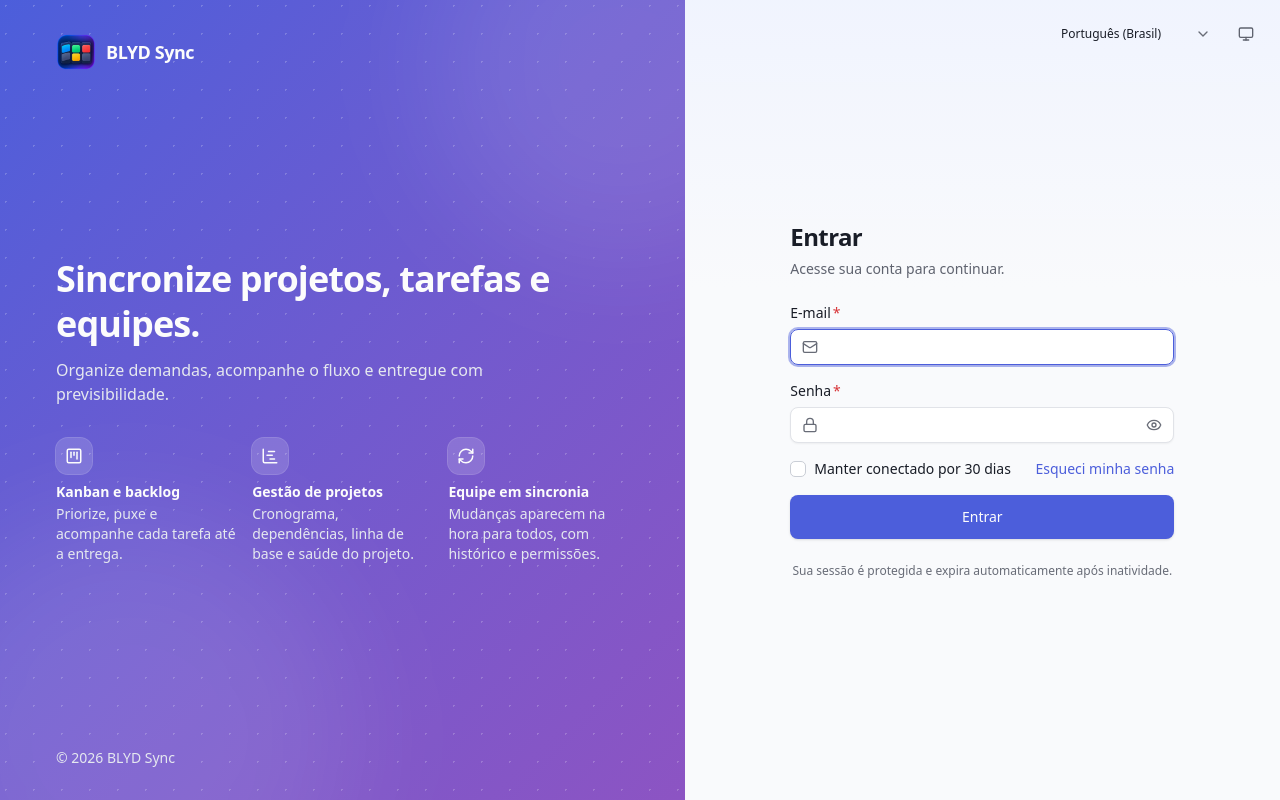
Test: fluxo de autenticação › mostra erro traduzido quando as credenciais são inválidas
The width and height of the screenshot is (1280, 800).
In the field labelled "E-mail*": (982, 347) [790,329,1174,365], type "ana@kamban.test"
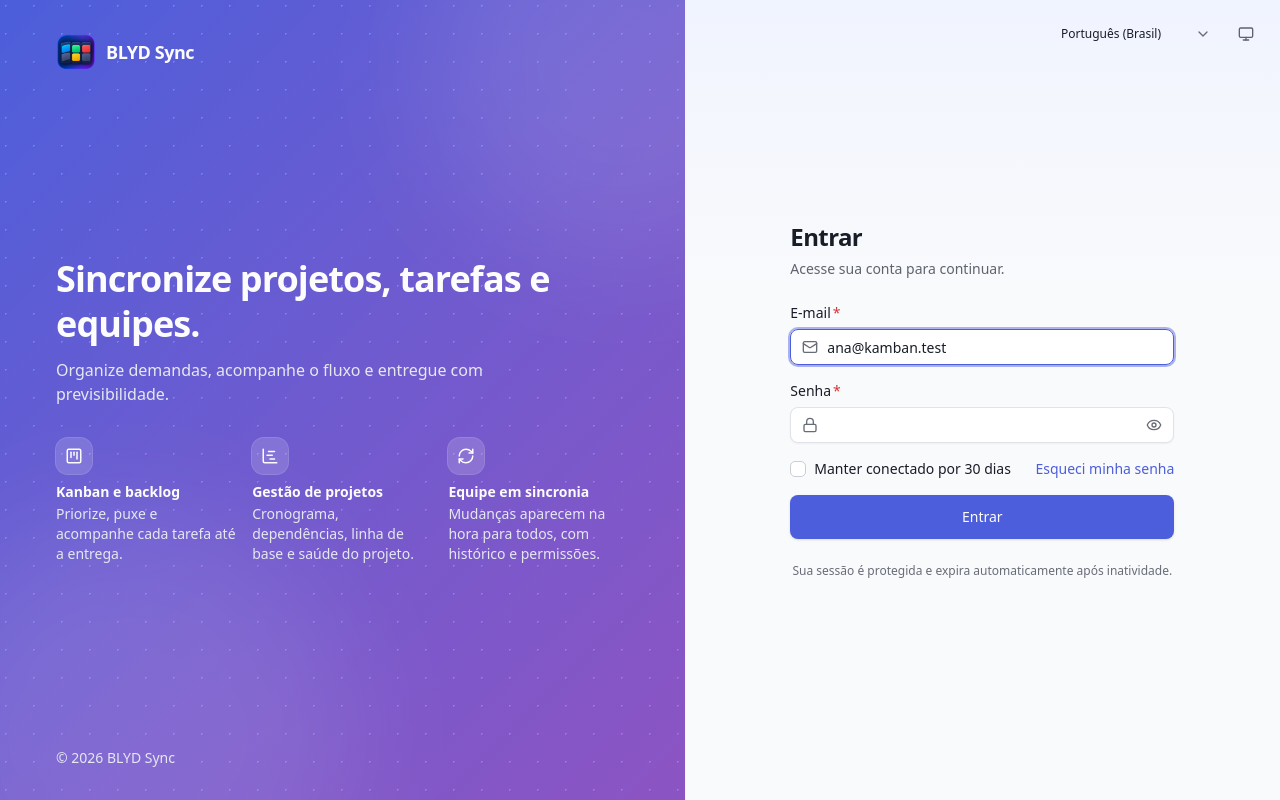
In the password field labelled "Senha*": (982, 425) [790,407,1174,443], type "SenhaErrada123"
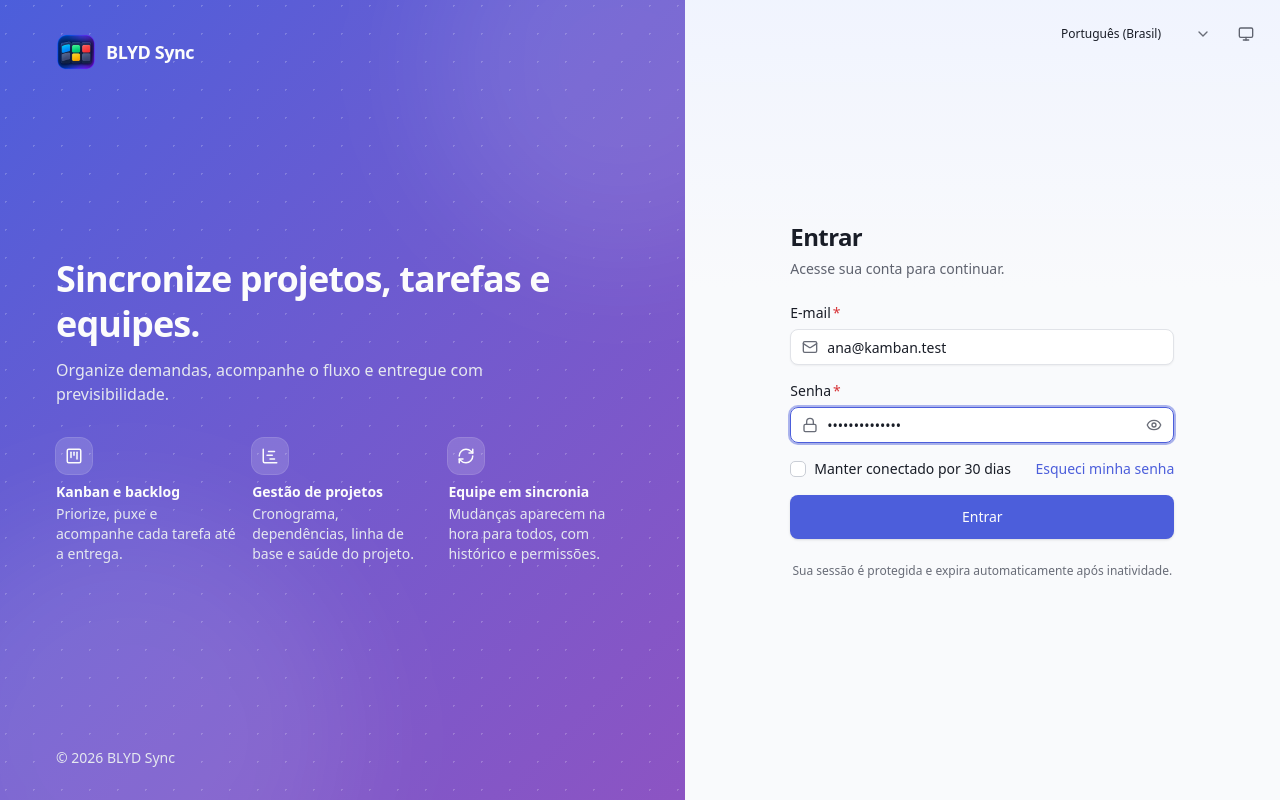
Click the button "Entrar": (982, 517) [790,495,1174,539]
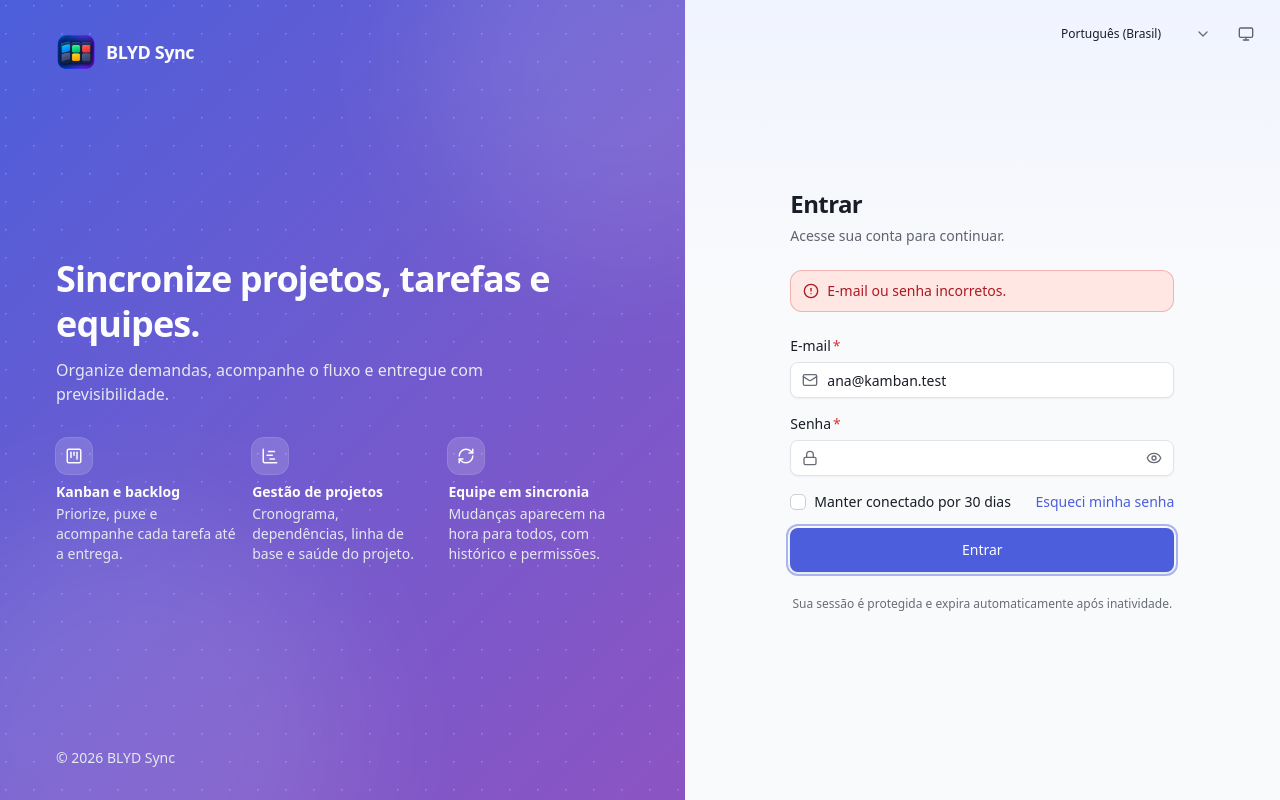
Result: the message reads "E-mail ou senha incorretos." at [827,281,1006,300]
Result: the password field labelled "Senha*" is empty at [790,440,1174,476]
